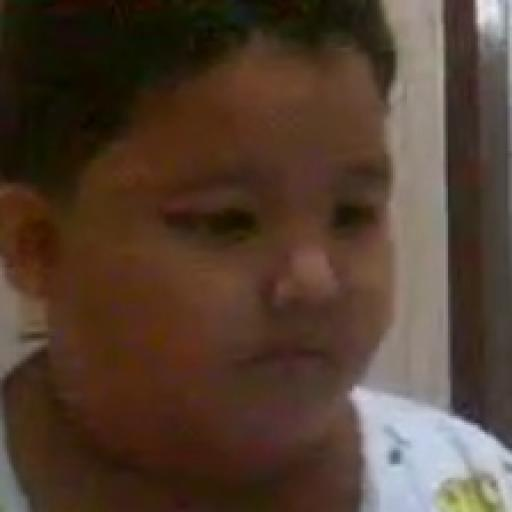Autism: (0, 18, 471, 484)
